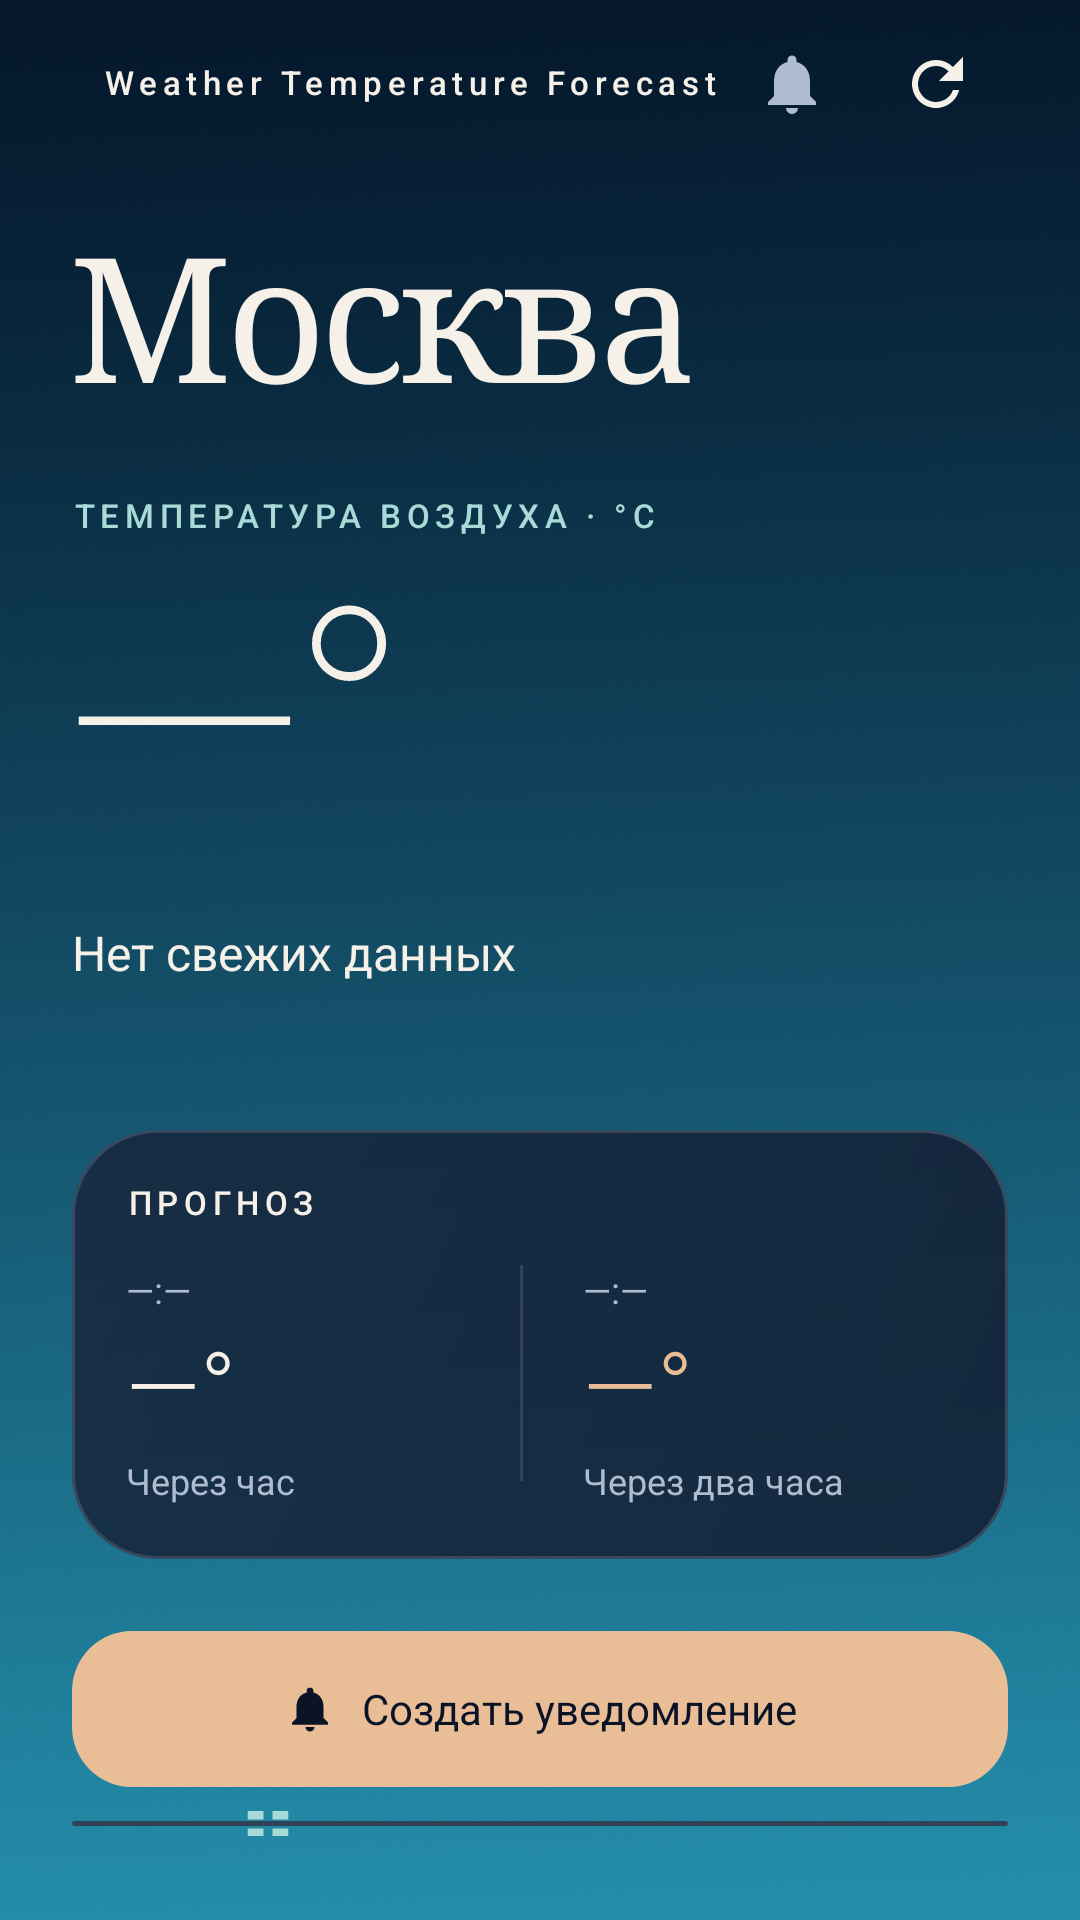

Where icons sit on this 1080*1920 app screen, as {"left": x1, "top": y1, "right": x2, "bottom": y2}:
Настройки уведомлений: {"left": 768, "top": 55, "right": 816, "bottom": 114}
Обновить погоду: {"left": 912, "top": 57, "right": 963, "bottom": 108}
